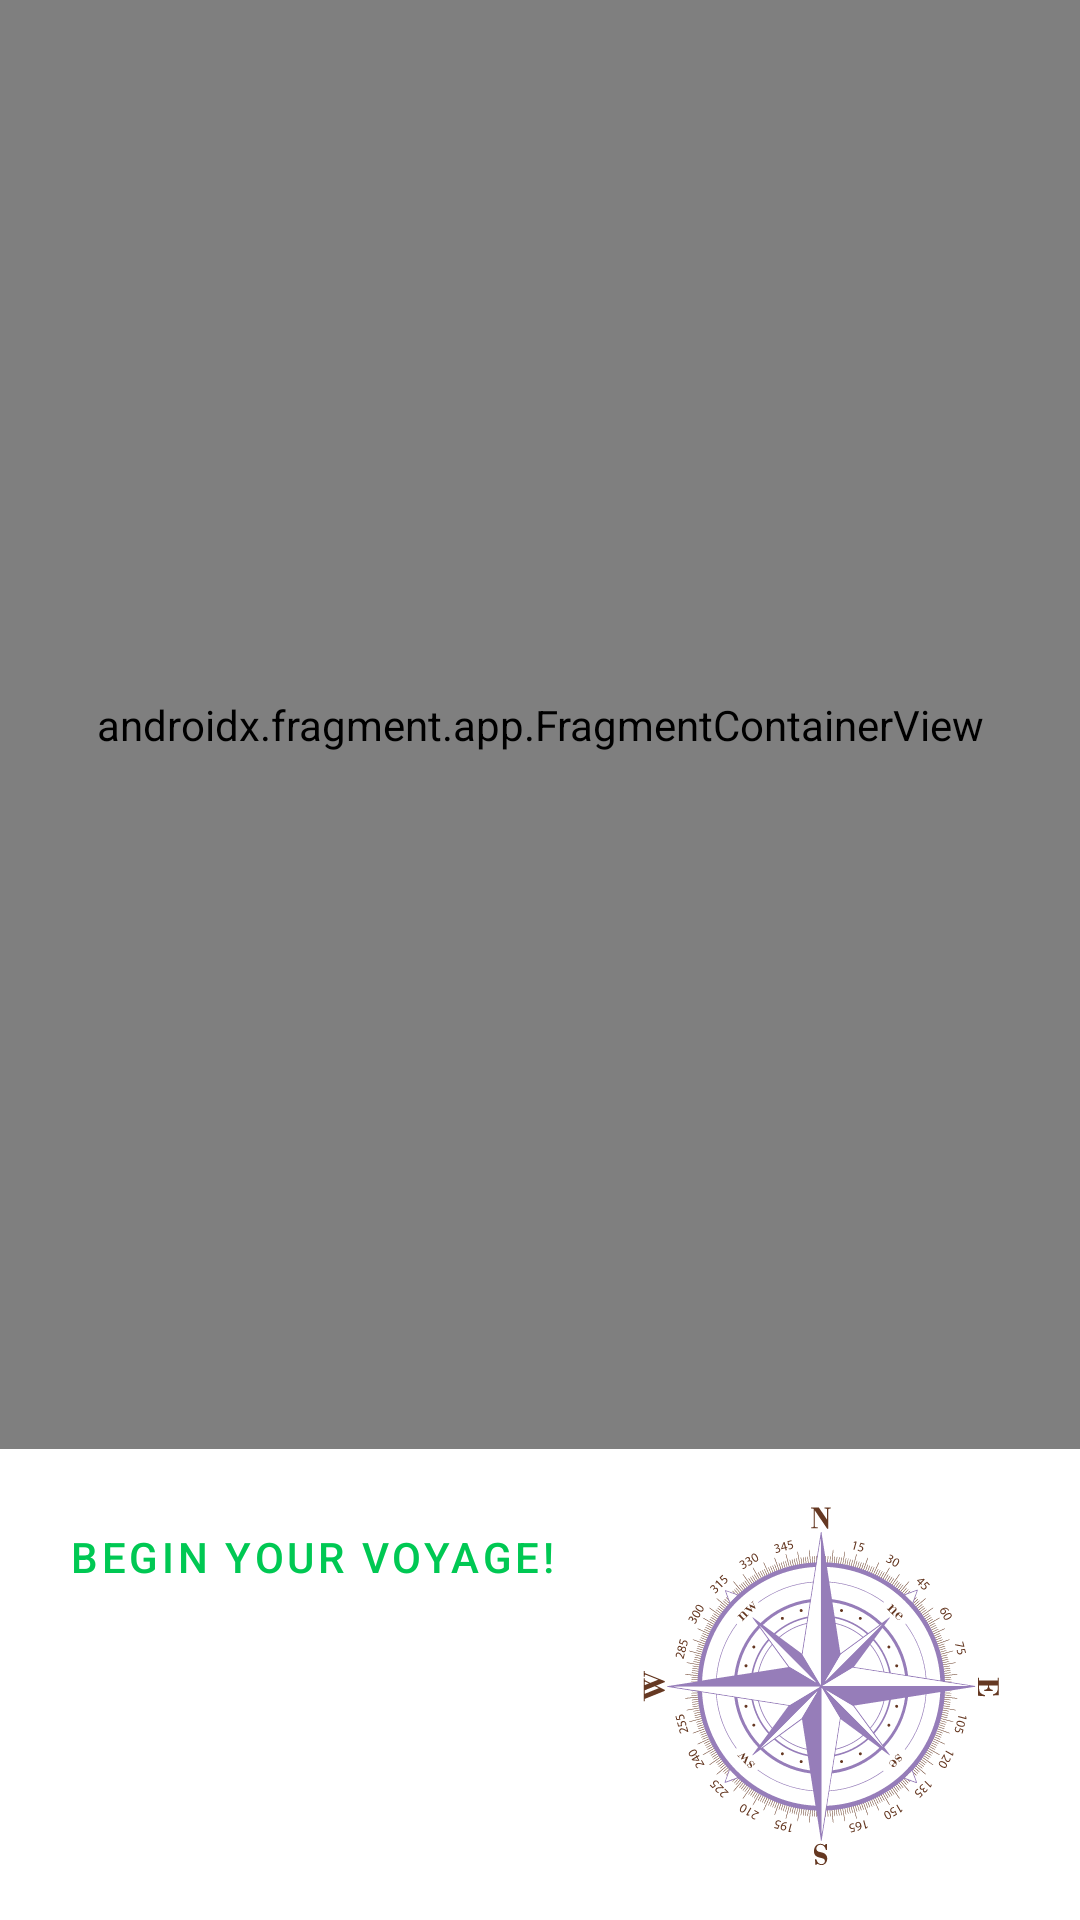

Screen size 1080*1920. Icon name, then its box in pixels as bbox=(x1, y1, x2, y2):
Compass: bbox=(643, 1507, 999, 1865)
